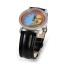watch: (17, 5, 52, 35)
